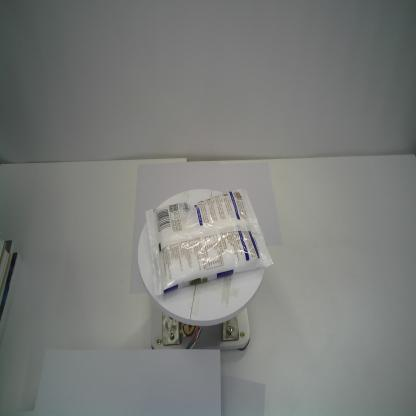Seasoner: (144, 188, 274, 297)
